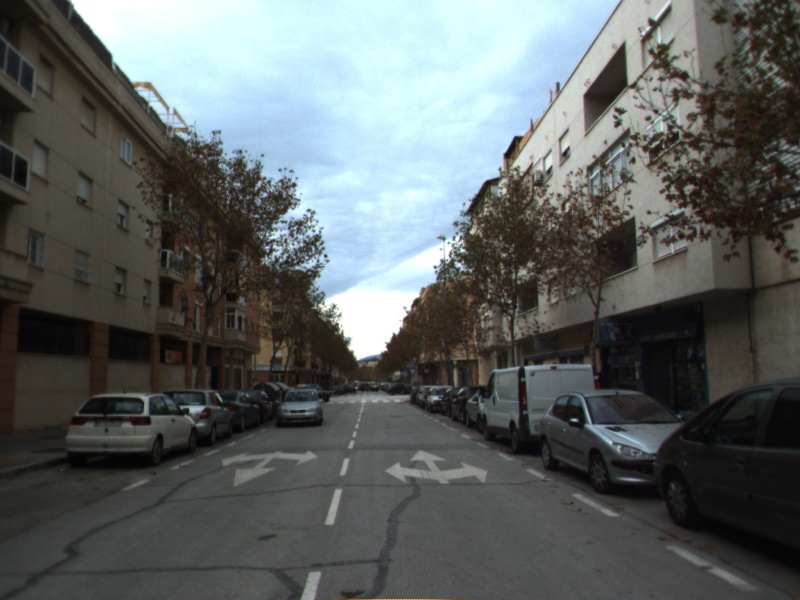STRAIGHT_LEFT_RIGHT: (383, 448, 489, 486)
